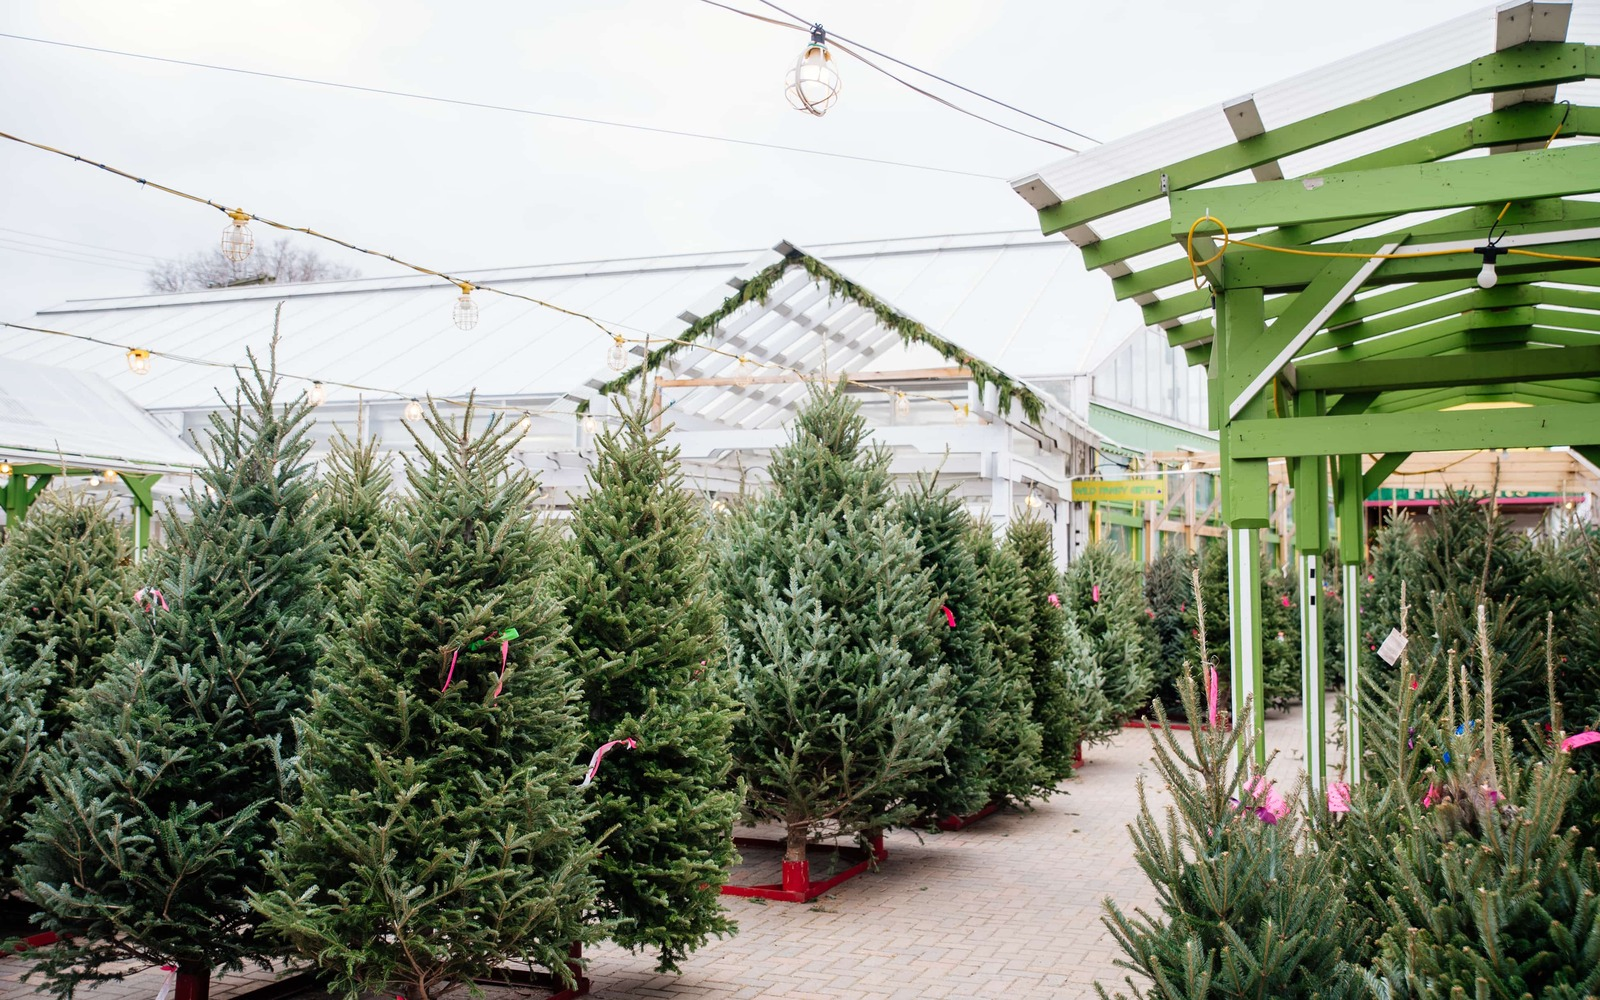plants: (1, 324, 288, 1000), (295, 415, 601, 987), (1148, 681, 1600, 1000), (734, 374, 913, 838), (611, 400, 718, 968), (927, 512, 1089, 802), (1371, 524, 1600, 679), (1095, 571, 1264, 672)
